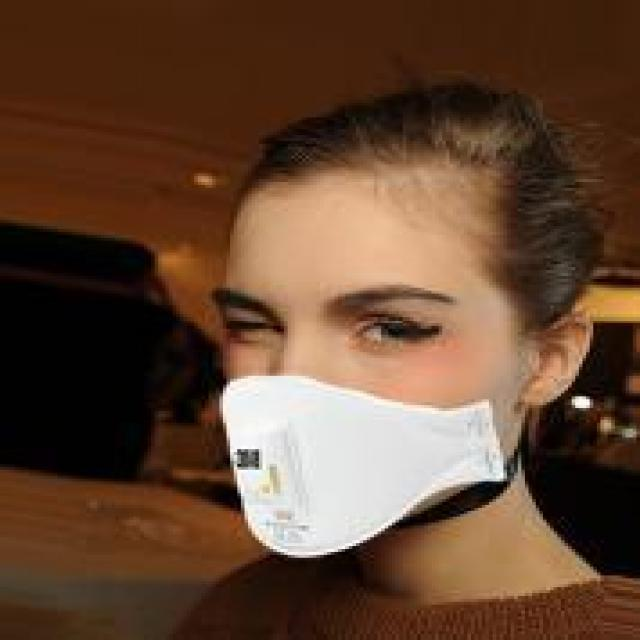mask: (201, 82, 622, 573)
